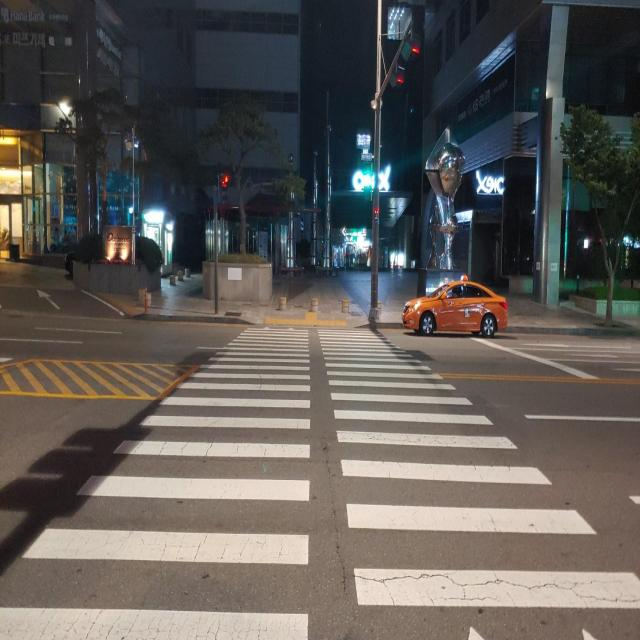횡단보도: (0, 325, 640, 640)
